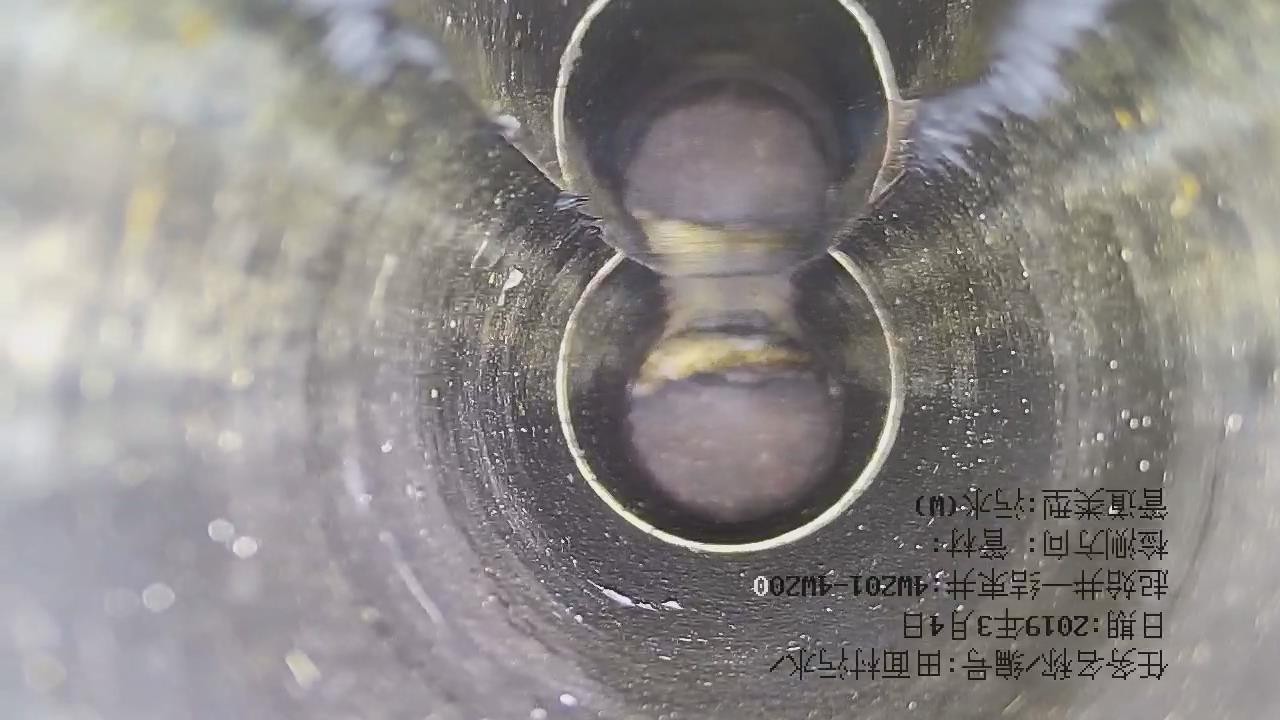CKTJ: (555, 249, 905, 554), (842, 1, 898, 91)
